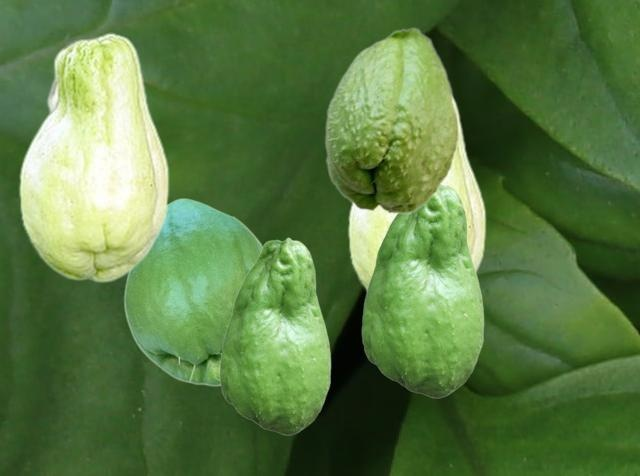sayote: (18, 32, 168, 282), (347, 93, 485, 293), (123, 198, 262, 386), (361, 184, 483, 397), (324, 26, 459, 214), (219, 237, 330, 434)
